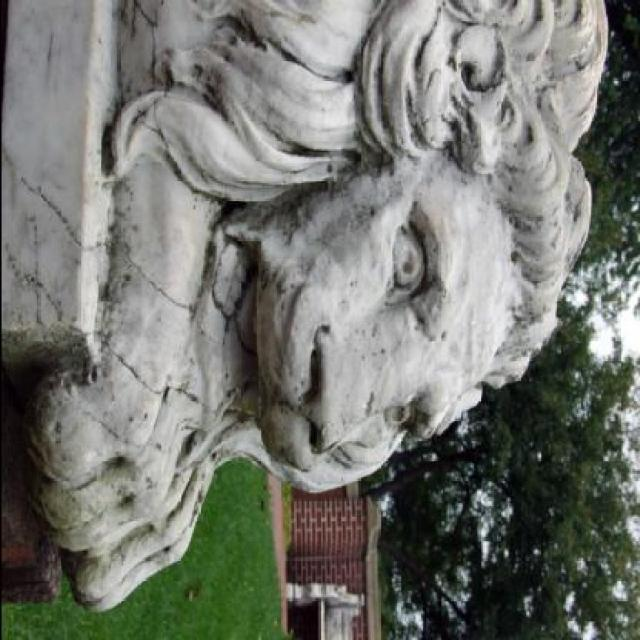Lion: (99, 58, 562, 530)
